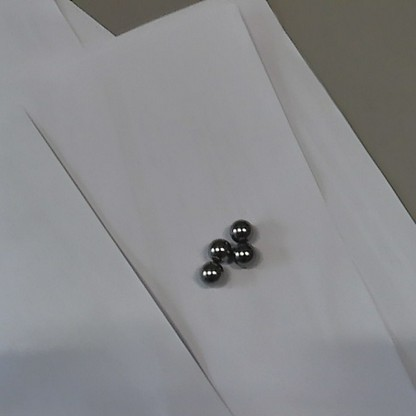ironball: (198, 257, 225, 287), (227, 216, 253, 247), (229, 242, 257, 269), (207, 236, 234, 264)
